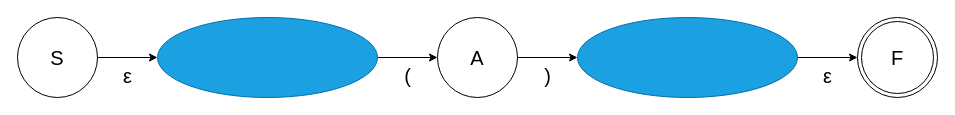
Image size: 955x115. Some labels were removed from this diagram. The shapes that lost their labels are listed below. From the top down, each one's box as (x1, y1, x2, y2) in pixels, then its label:
(156, 16, 378, 98): N(word)
(576, 16, 798, 98): N(block)
